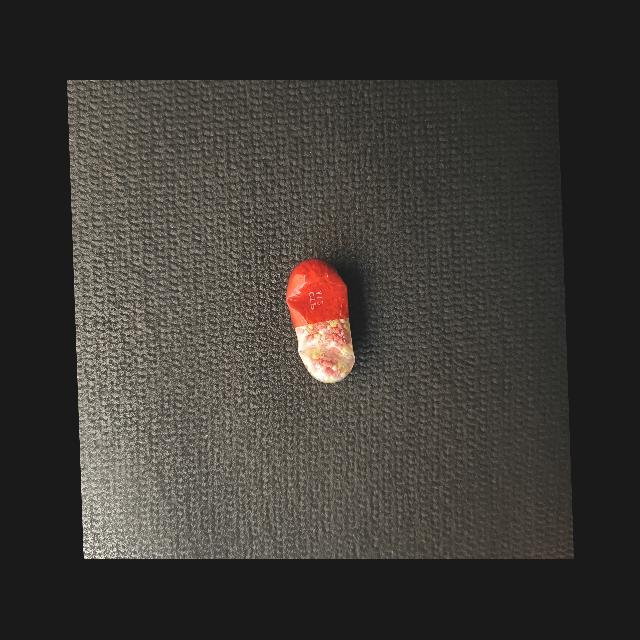Defective Capsule: (286, 259, 355, 384)
